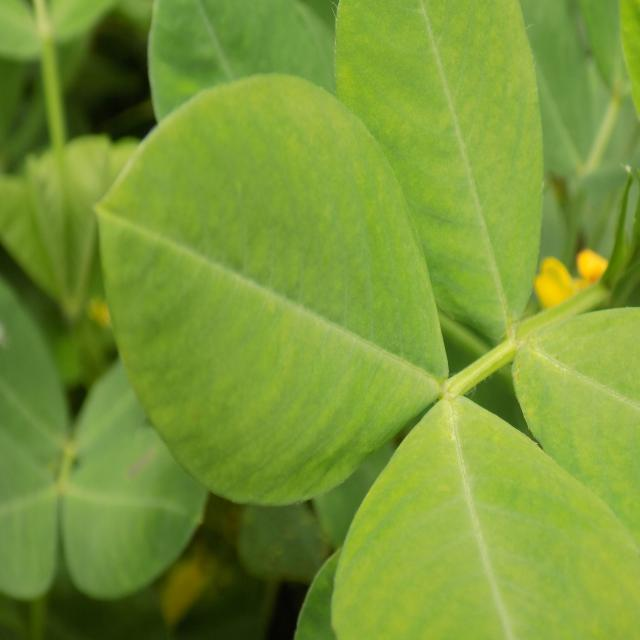Ground nut_healthy: (92, 72, 449, 510)
